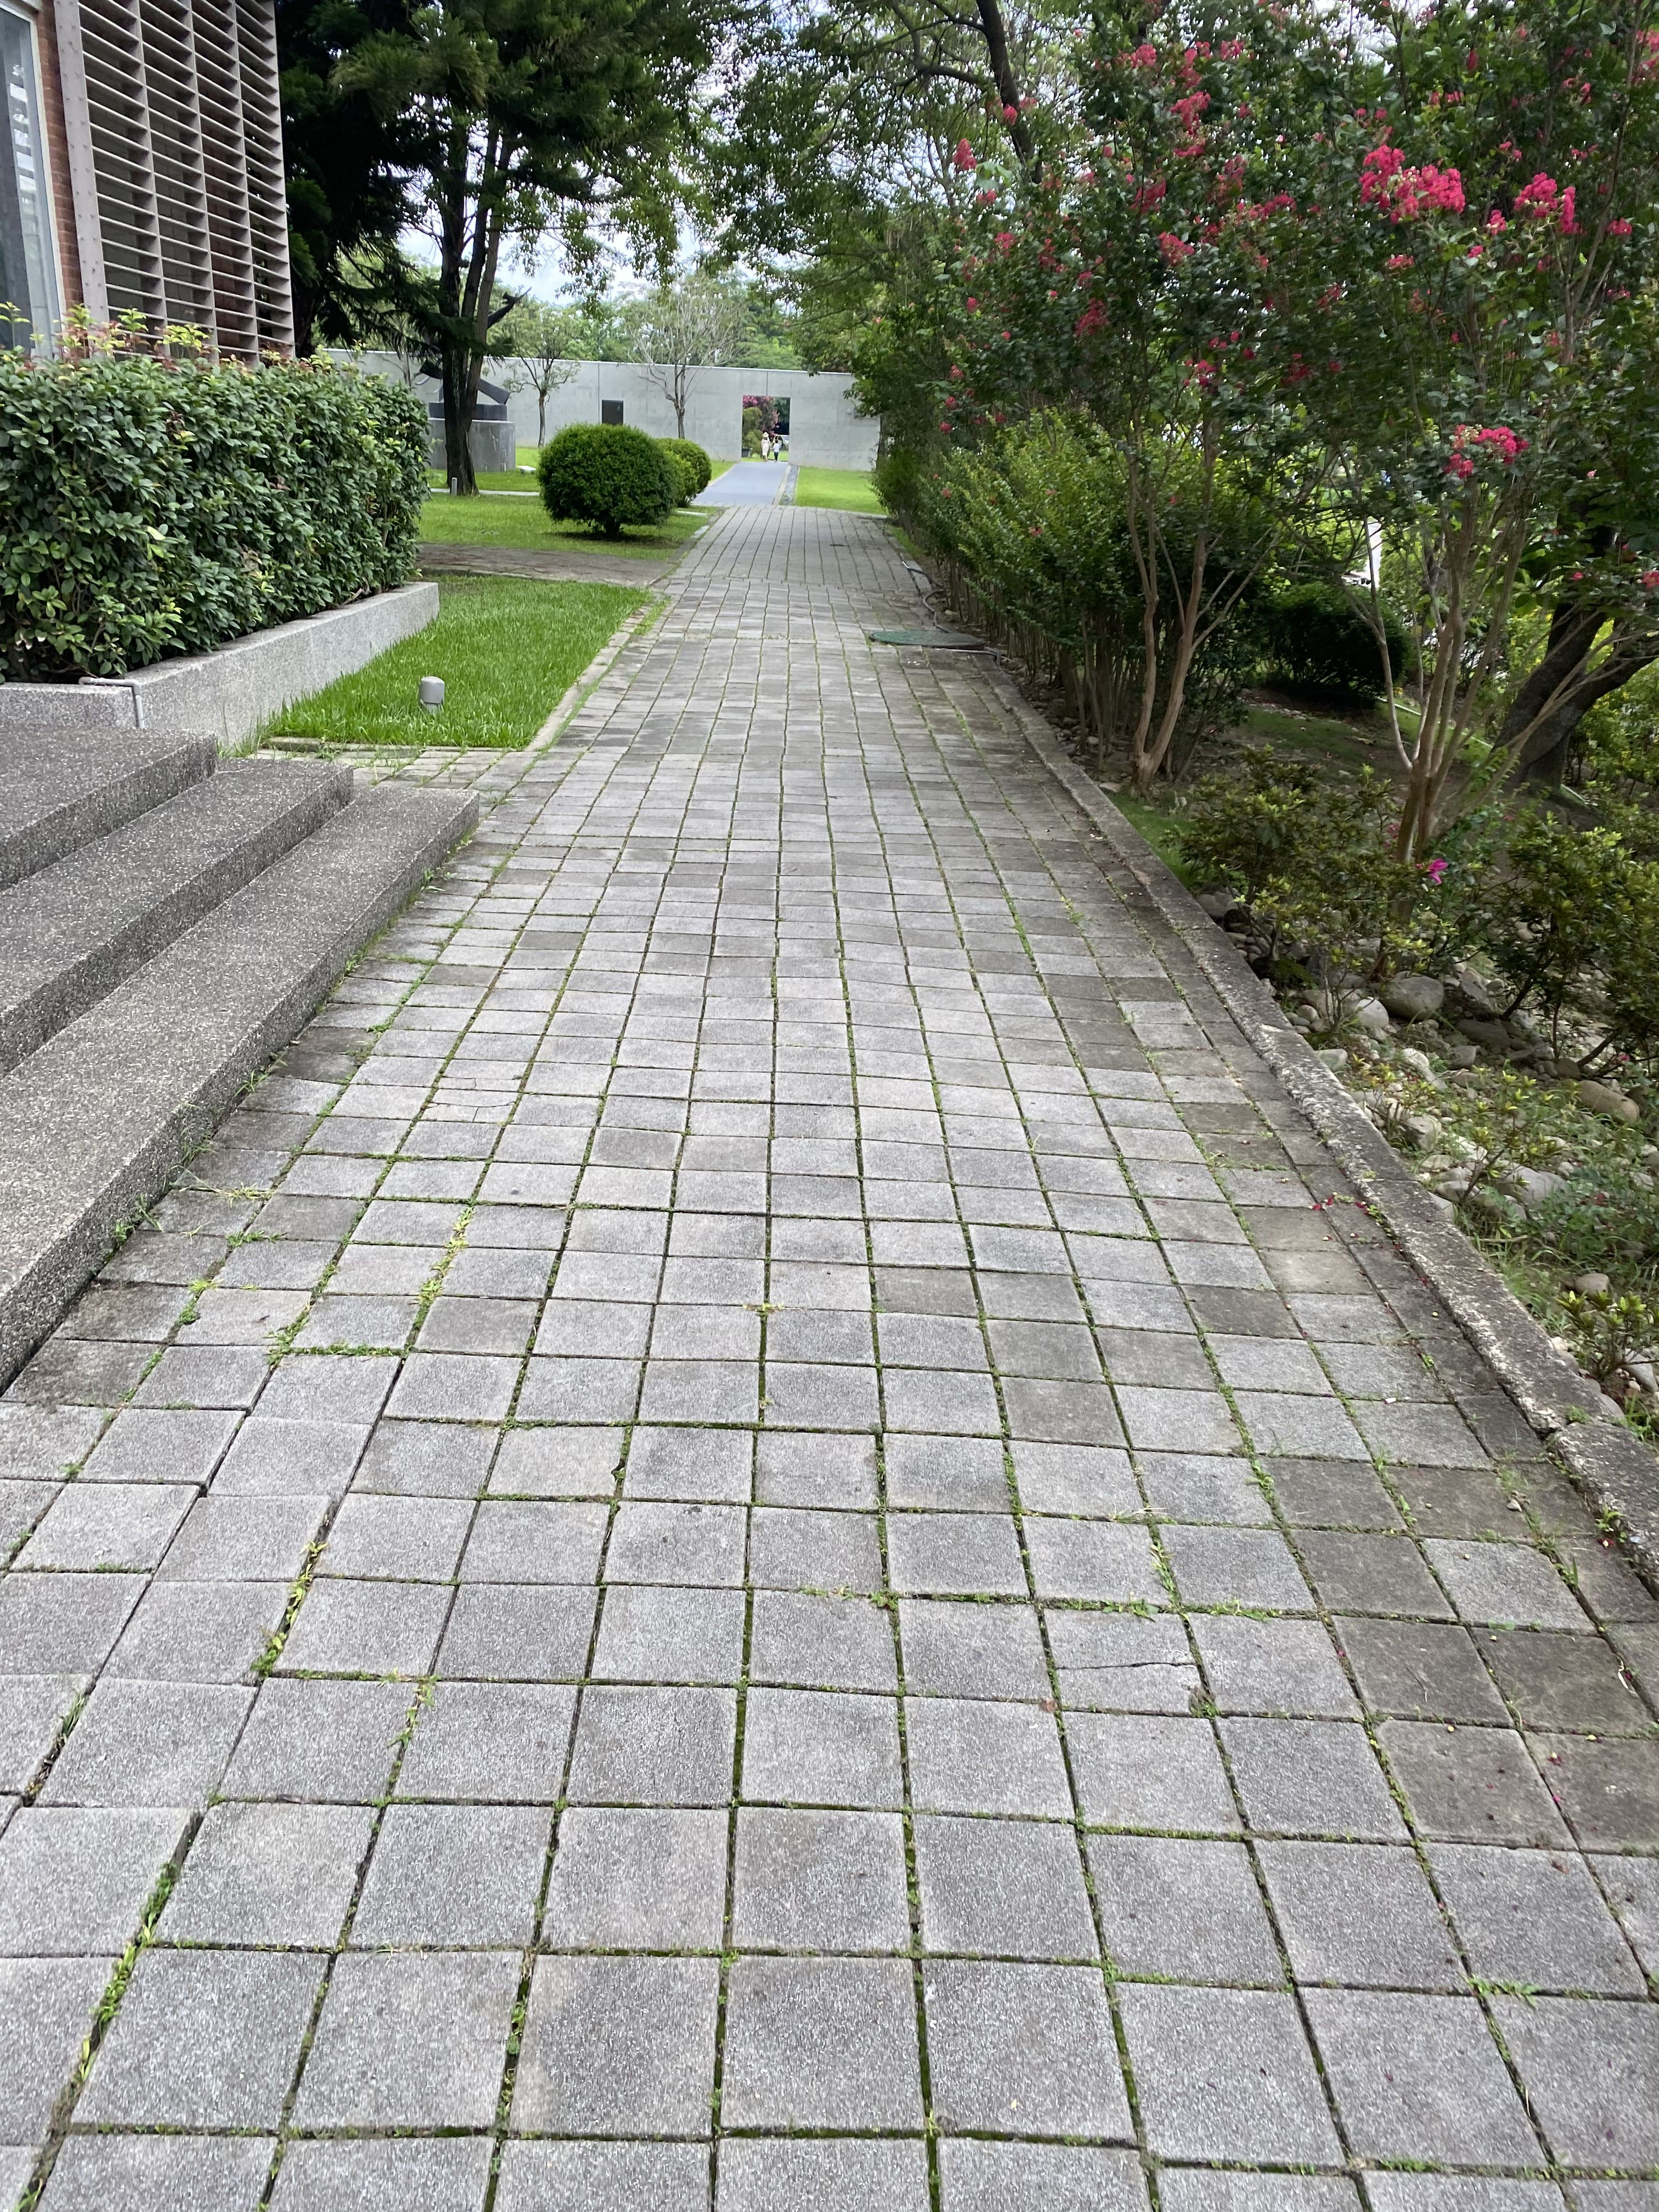0: (5, 554, 690, 2212)
sidewalk: (664, 491, 1659, 2212)
